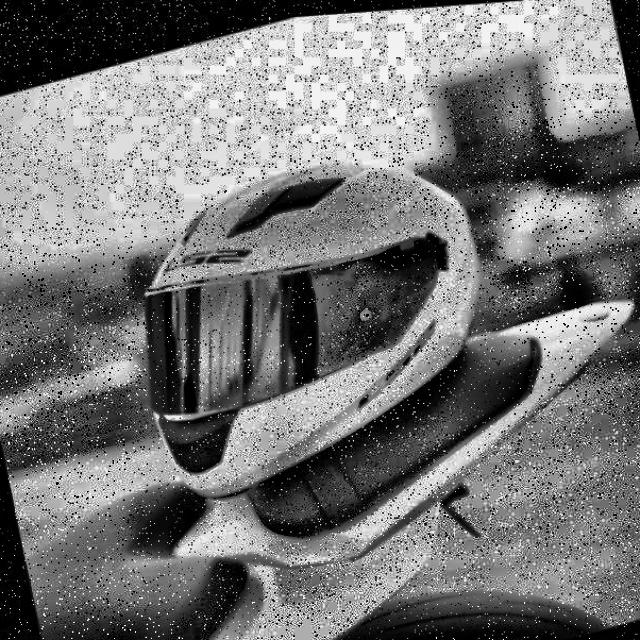Helmet: (95, 106, 523, 519)
